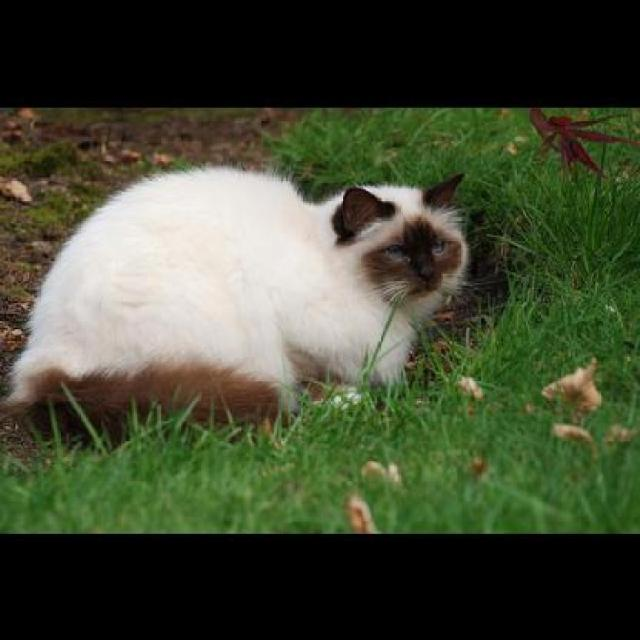unauthorized: (0, 161, 472, 447)
